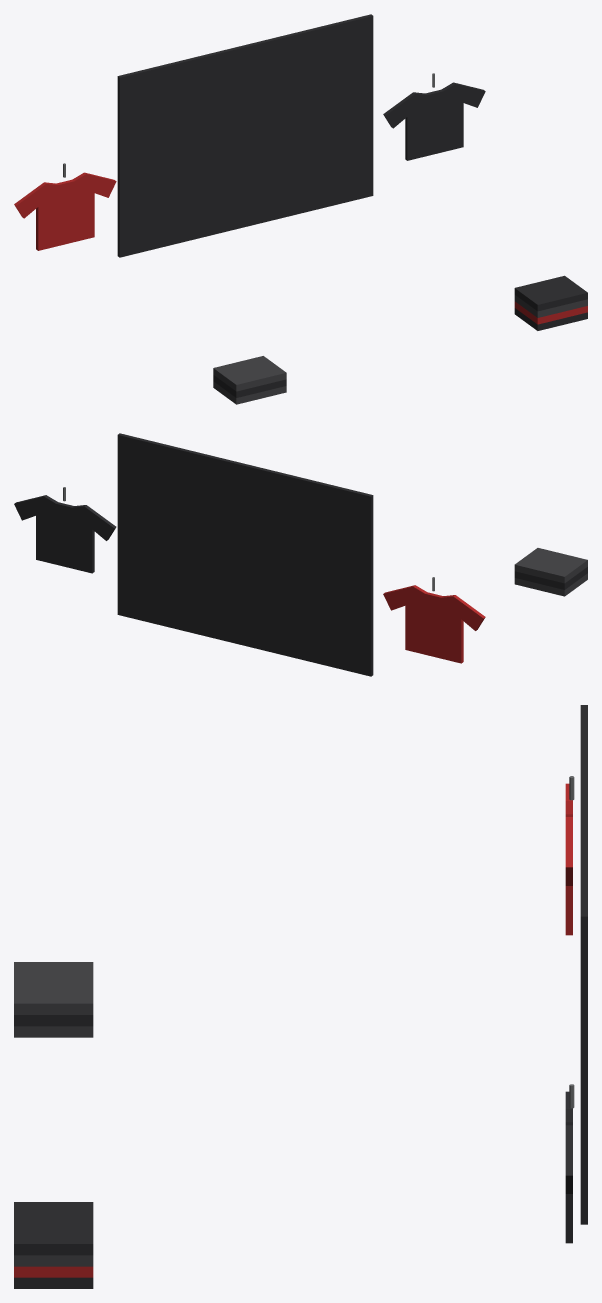
Rendered from booth_merch.glb.
The picture shows the model from 3 angles, top to bottom: view 1: azimuth 30°, elevation 25°; view 2: azimuth 150°, elevation 25°; view 3: azimuth 270°, elevation 25°; orthographic projection. The views are drawn at different scales.
Parts seen in each view (by area): view 1: booth_merch; view 2: booth_merch; view 3: booth_merch.
Part boxes in pixels (x1=…): booth_merch: x1=14, y1=14, x2=587, y2=404; booth_merch: x1=14, y1=433, x2=587, y2=676; booth_merch: x1=14, y1=705, x2=587, y2=1288.
Bounding box in the file's own units: 3.74 × 1.48 × 2.31.
